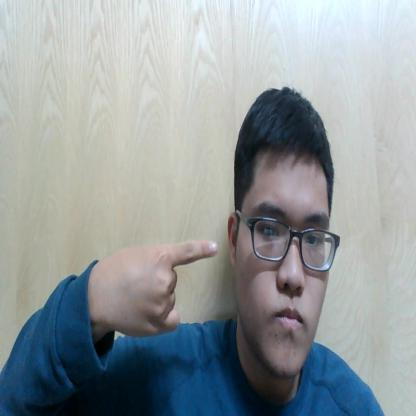left: (102, 230, 221, 340)
